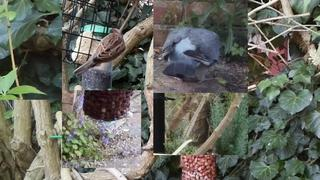sparrow: (73, 27, 127, 78)
wood pigeon: (161, 27, 221, 84)
